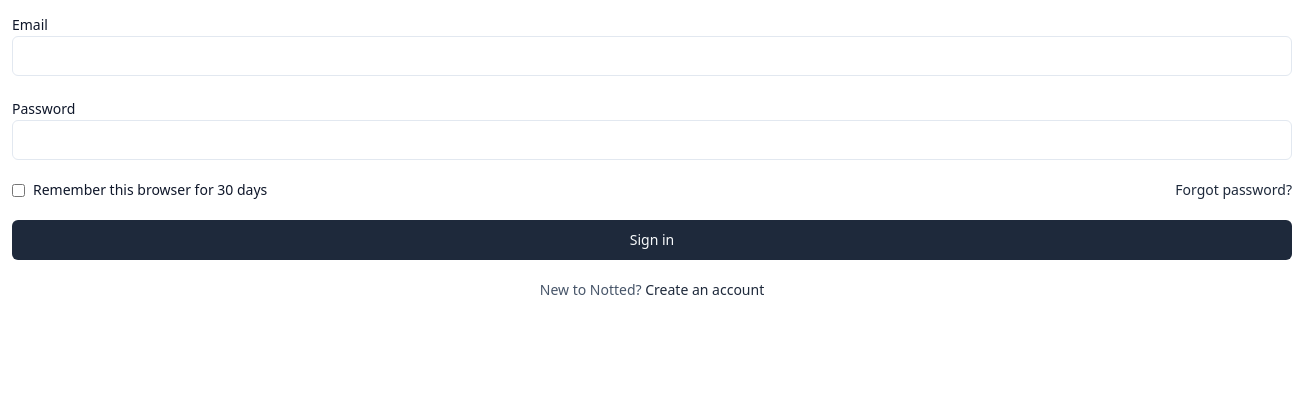
Test: LoginForm › uses a generic credential error without echoing provider details
In the field labelled "Email": [652, 56] box [12,36,1292,76], type "person@example.test"
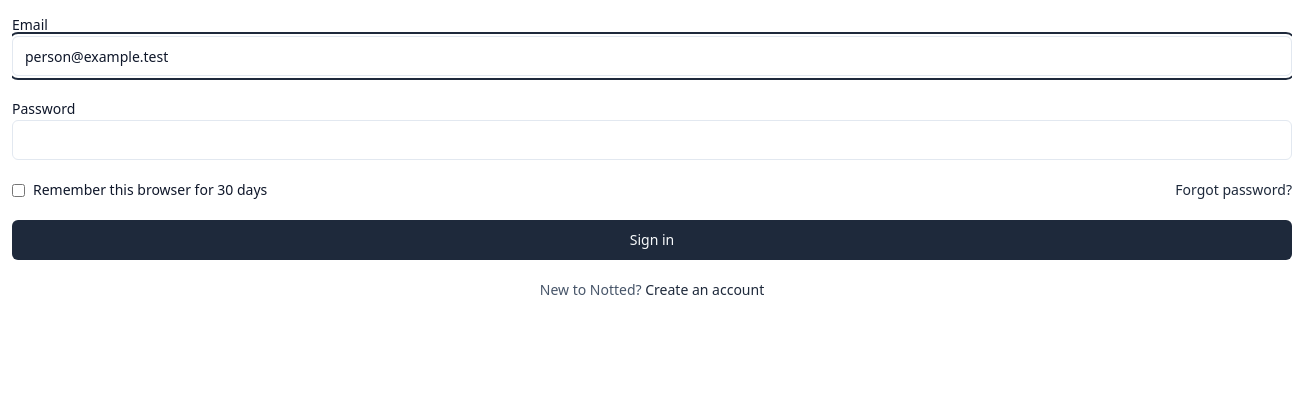
In the password field labelled "Password": [652, 140] box [12,120,1292,160], type "wrong"
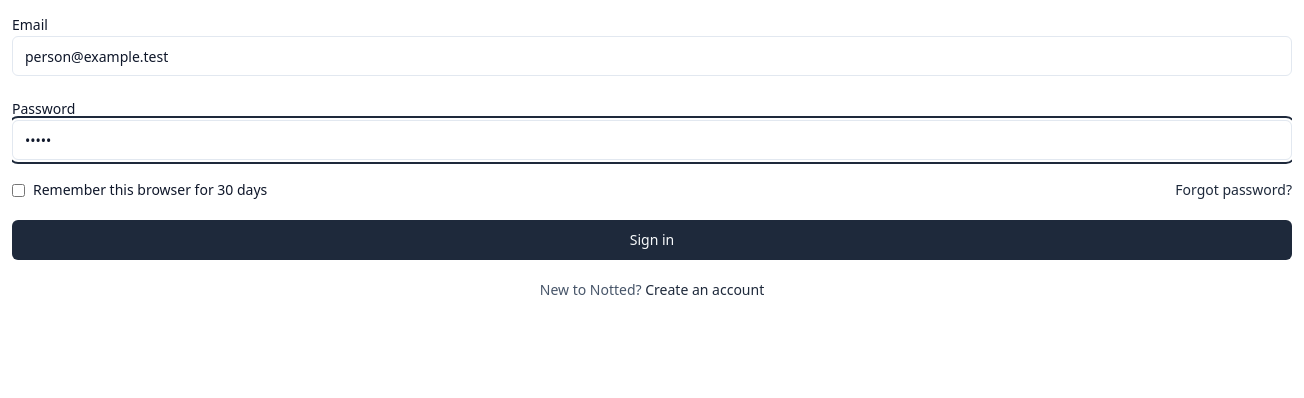
Click the button "Sign in": [652, 240] box [12,220,1292,260]
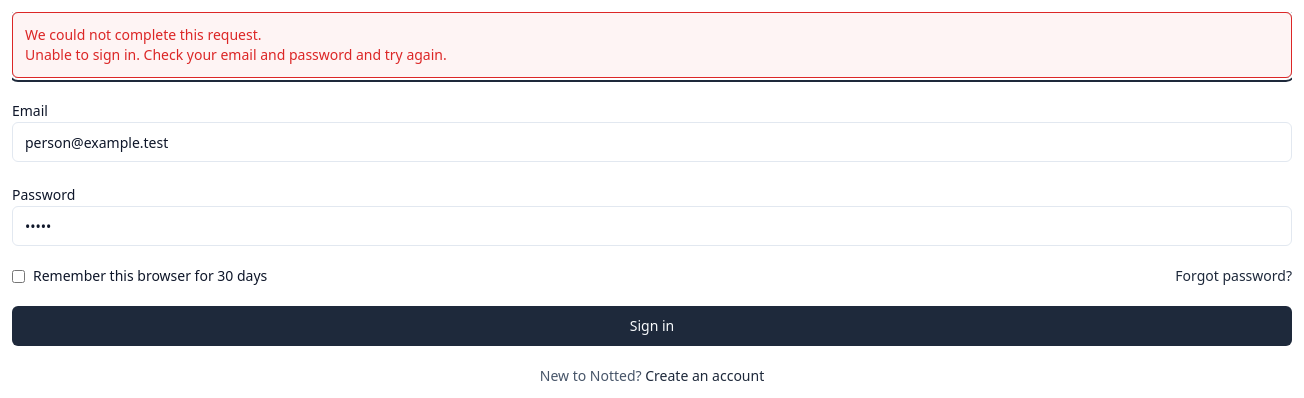
Check: the text "Unable to sign in" is shown, box [25,45,447,64]
